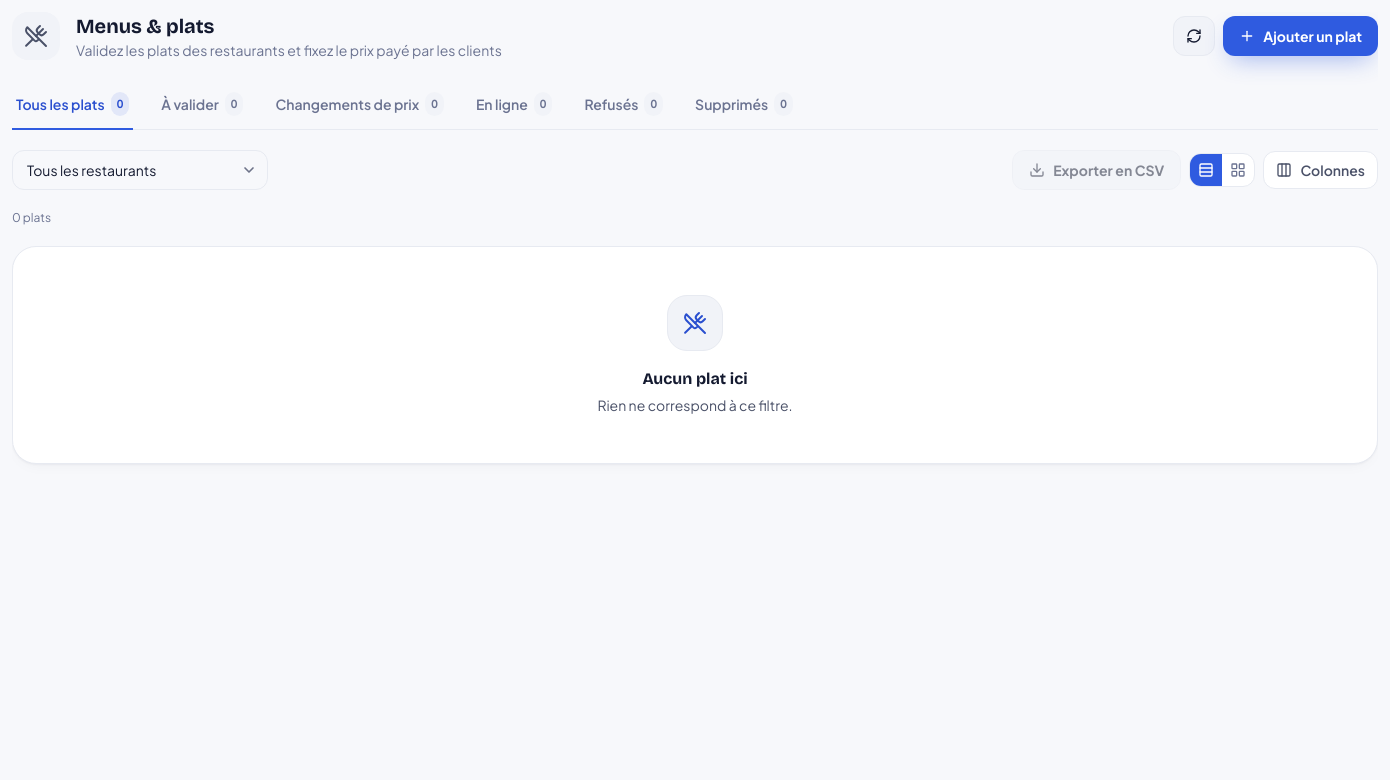
it: CatalogPanel › empty queue says so and offers all dishes
Click the button "À valider 0" at (202, 105), box [157,80,248,130]
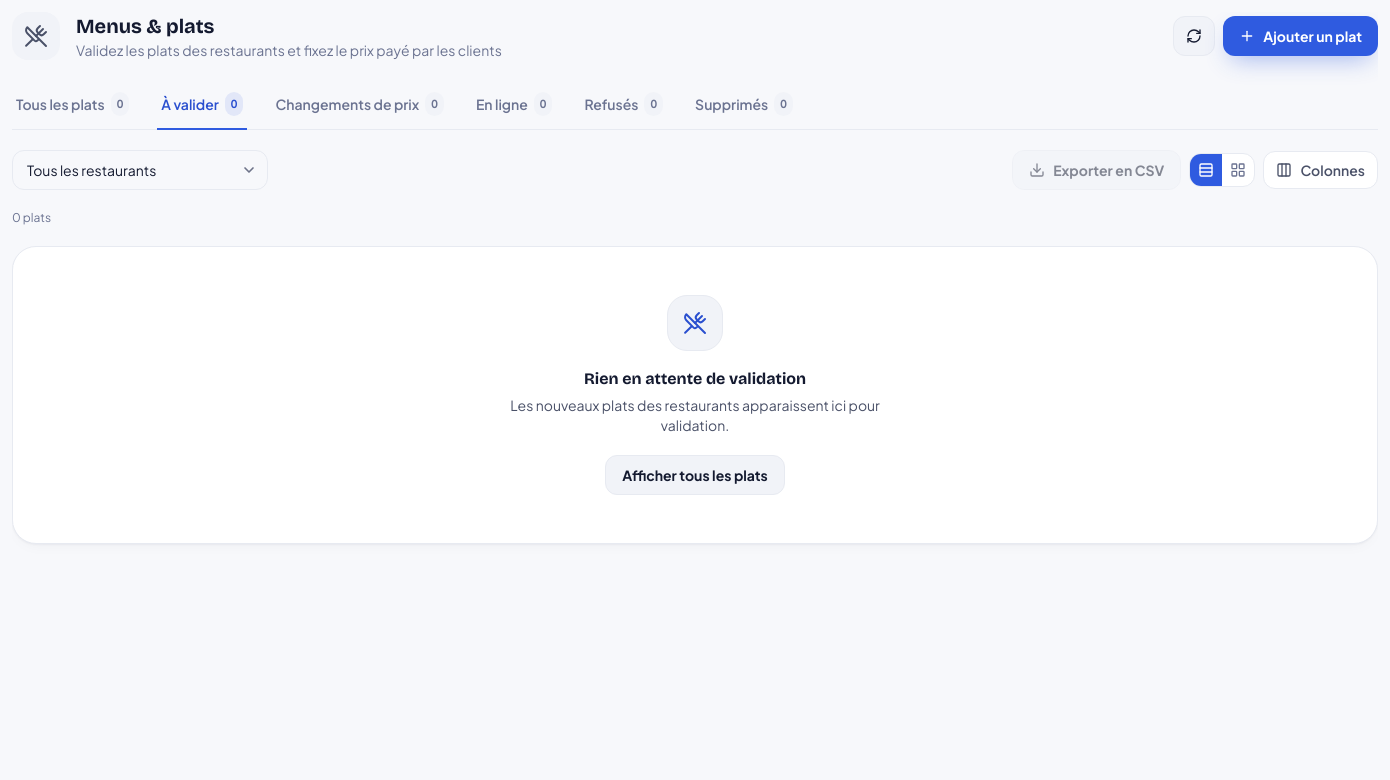
Expected: the text "Rien en attente de validation" is shown, [584,367,806,391]
Expected: the button "Afficher tous les plats" is shown, [605,455,785,495]
